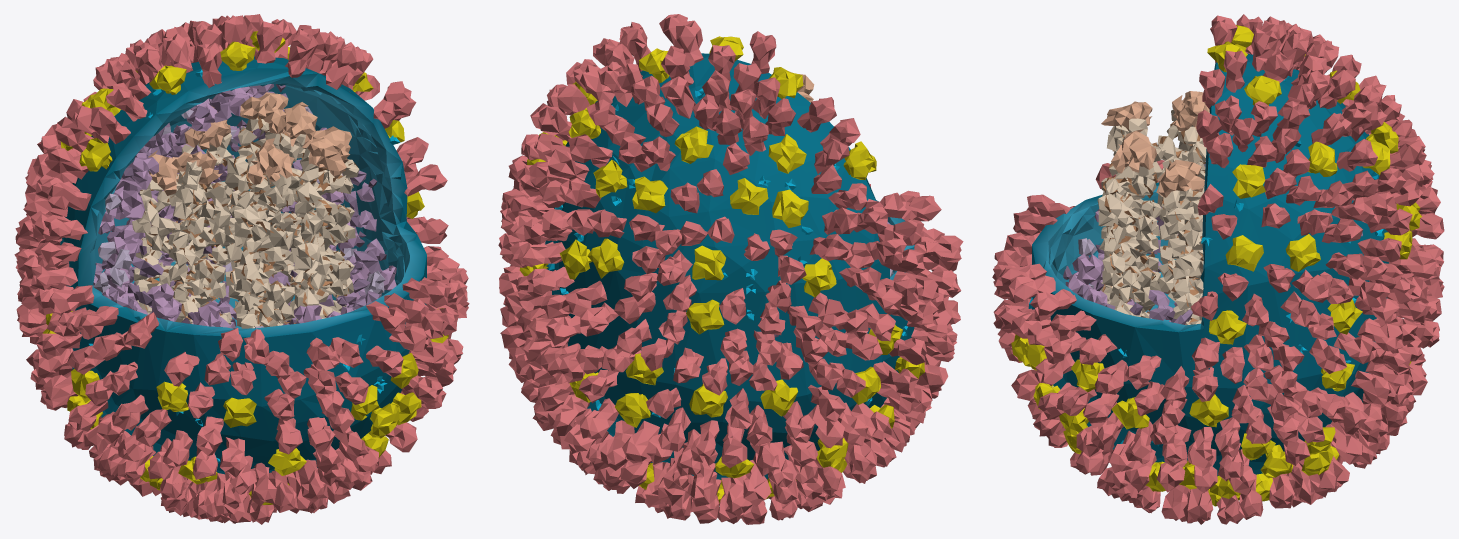
The model's file is volume3d-nih-influenza.glb.
The picture shows the model from 3 angles, left to right: view 1: azimuth 30°, elevation 25°; view 2: azimuth 150°, elevation 25°; view 3: azimuth 270°, elevation 25°; orthographic projection. The views are drawn at different scales.
Parts seen in each view (by area): view 1: Influenza_0.ply; view 2: Influenza_0.ply; view 3: Influenza_0.ply.
Boxes of the visible parts, <box> form: Influenza_0.ply: <box>14,14,469,524</box>; Influenza_0.ply: <box>498,14,963,524</box>; Influenza_0.ply: <box>992,14,1444,524</box>.
Size of the model in its own units: 1.74 by 1.98 by 1.73.
